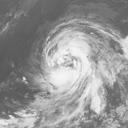cyclone: (40, 18, 111, 96)
